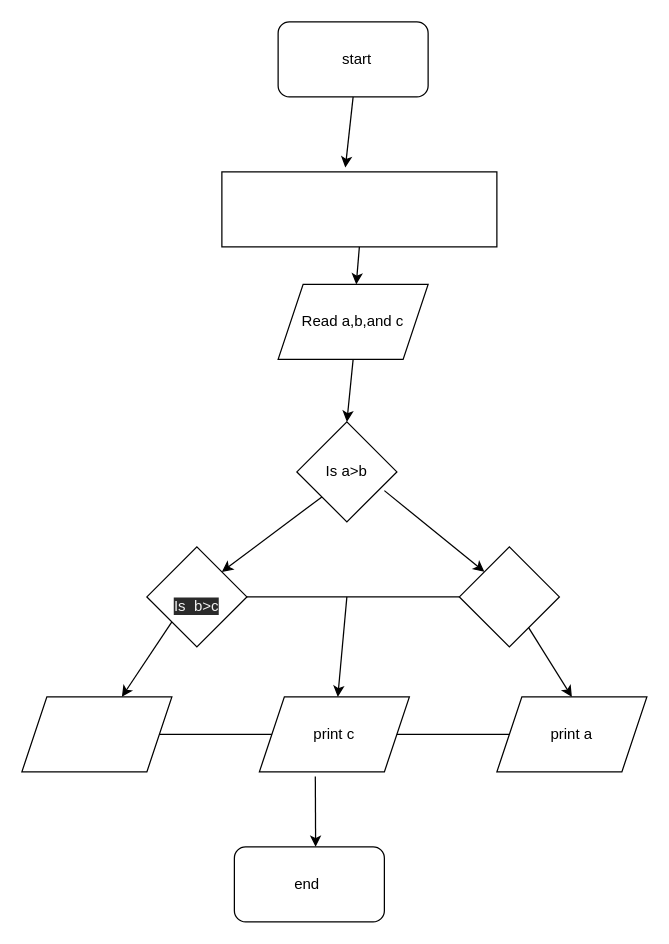
The diagram is 669 pixels wide and 944 high, and some of its shapes have lost their labels. The shapes that lost their labels are listed below. From the top down, each one's centre as x and y in pixels, then its label:
the point at 359,209: Declare variable a,b and c
the point at 508,596: Is a>c
the point at 96,734: print b
